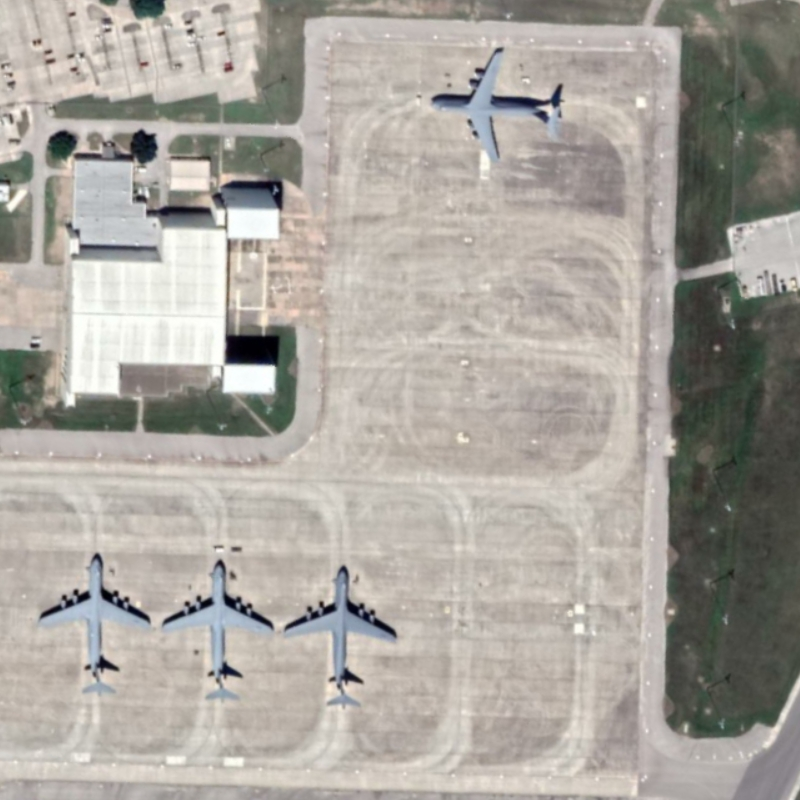A4: (32, 546, 158, 704), (159, 550, 278, 709), (425, 44, 575, 168), (282, 560, 404, 711)
